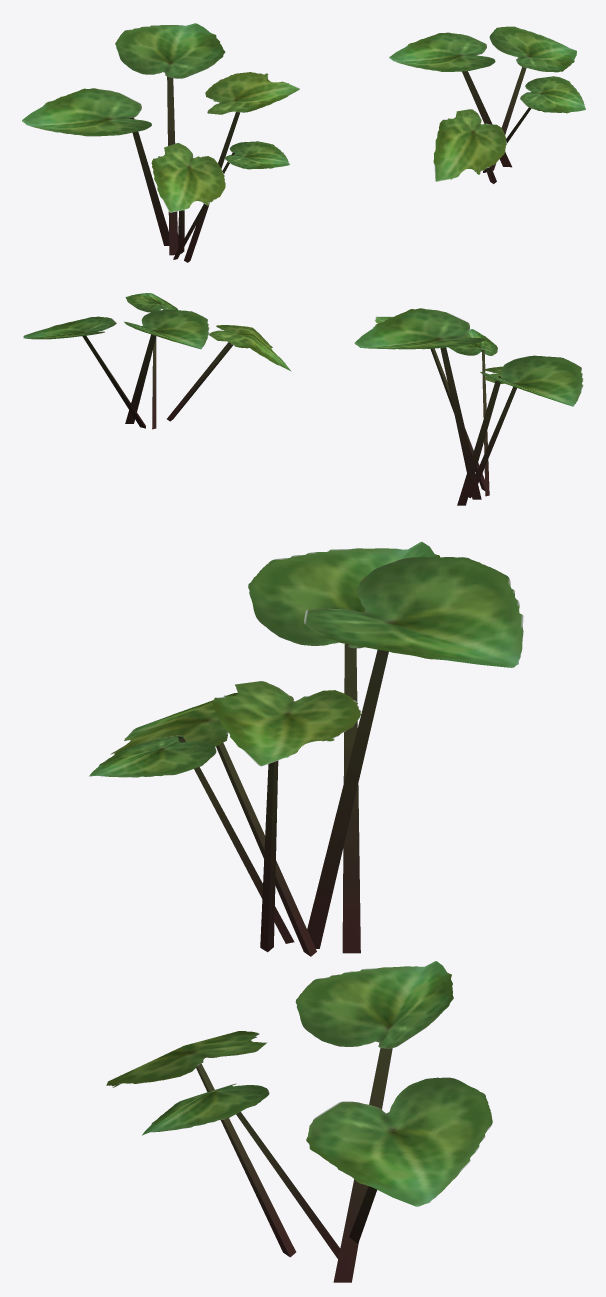
Rendered from M5_P_shuicao1.FBX.
3 views of the same model, one above another, from view 1: azimuth 30°, elevation 25°; view 2: azimuth 150°, elevation 25°; view 3: azimuth 270°, elevation 25° (orthographic). The views are drawn at different scales.
Visible parts, largest first — view 1: M5_P_shuicao01, M5_P_shuicao02; view 2: M5_P_shuicao01, M5_P_shuicao02; view 3: M5_P_shuicao01, M5_P_shuicao02.
Boxes of the visible parts, x1,y1,x2,y2 form: M5_P_shuicao01: (22, 23, 299, 262); M5_P_shuicao02: (389, 26, 585, 183); M5_P_shuicao01: (354, 308, 583, 505); M5_P_shuicao02: (23, 293, 291, 429); M5_P_shuicao01: (89, 541, 523, 956); M5_P_shuicao02: (106, 961, 492, 1282).
Size of the model in its own units: 74.24 by 24.37 by 26.88.
